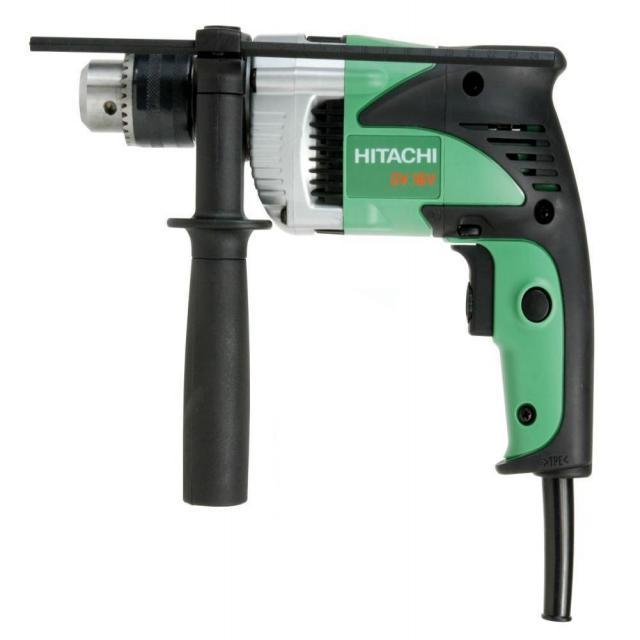drill: (28, 25, 595, 623)
